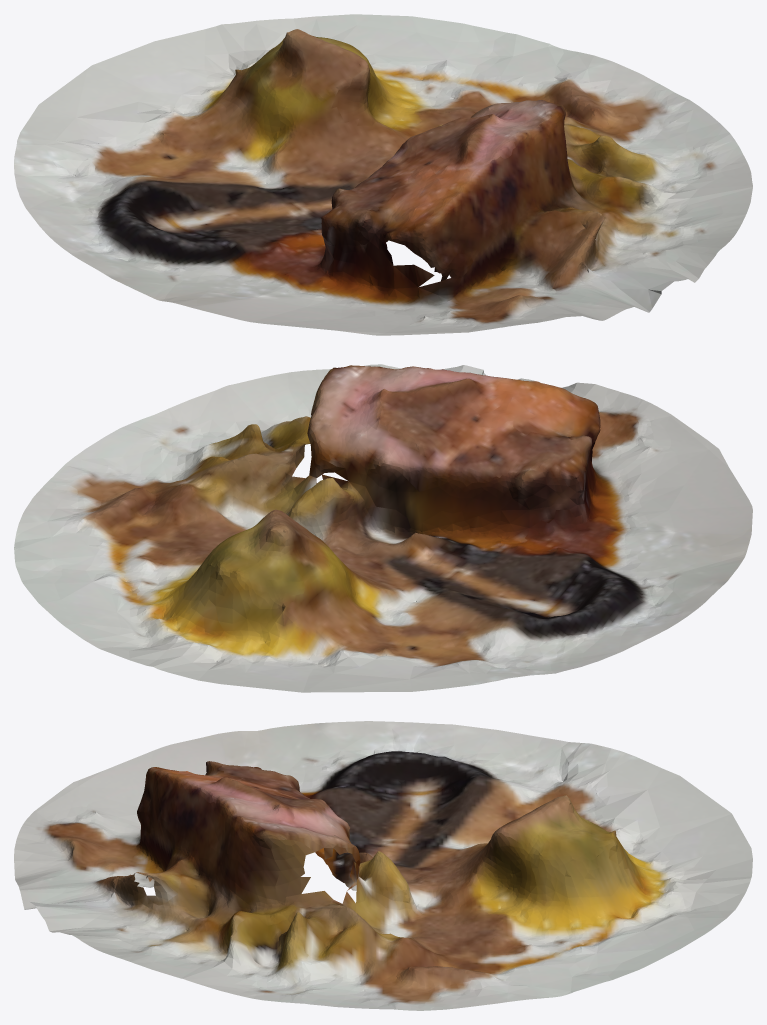
File: lejardin-waton.glb
3 views of the same model, one above another, from view 1: azimuth 30°, elevation 25°; view 2: azimuth 150°, elevation 25°; view 3: azimuth 270°, elevation 25° (orthographic). The views are drawn at different scales.
Parts seen in each view (by area): view 1: mesh; view 2: mesh; view 3: mesh.
Boxes of the visible parts, left/top/right/bottom form: mesh: left=14, top=14, right=752, bottom=335; mesh: left=14, top=364, right=752, bottom=692; mesh: left=14, top=721, right=752, bottom=1010.
Size of the model in its own units: 0.2157 by 0.0371 by 0.2357.
1 material, 1 textured.
